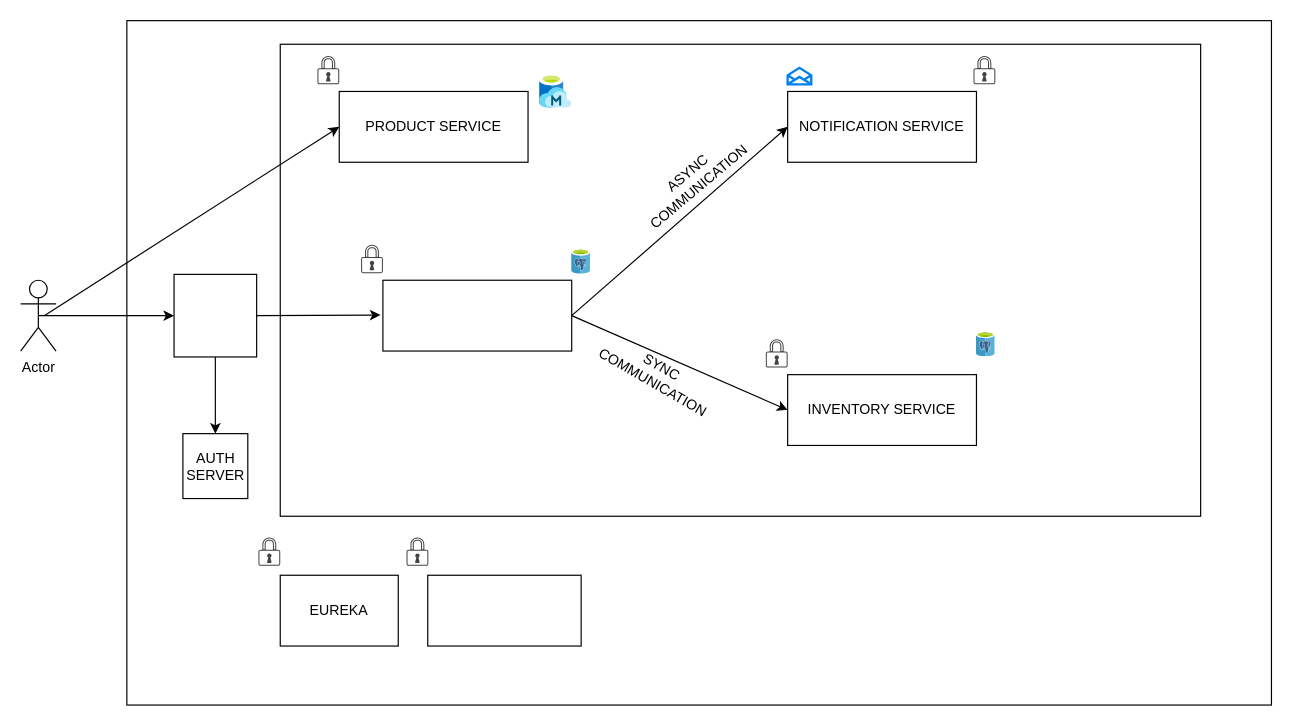
Image size: 1292x726. Some labels were removed from this diagram. Each missing label, with the centre of its shape:
API GATEWAY: point (215, 315)
CONFIG SERVER: point (504, 610)
ORDER SERVICE: point (477, 315)
